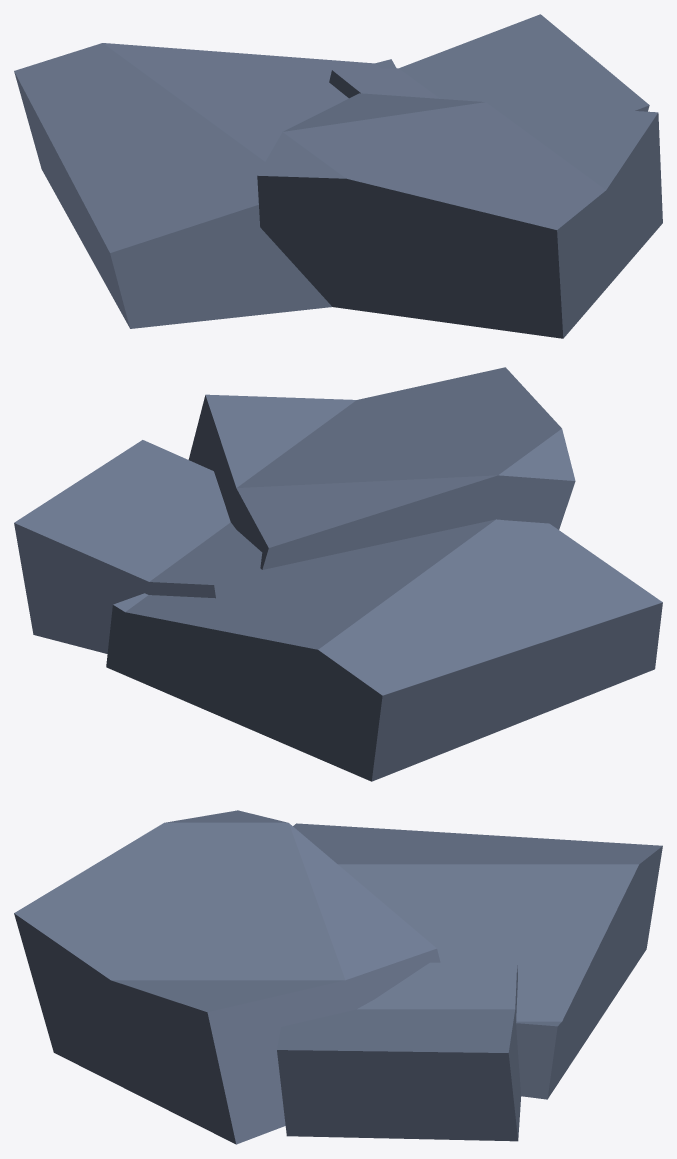
Rendered from resource_stone1_empty.fbx.
3 views of the same model, one above another, from view 1: azimuth 30°, elevation 25°; view 2: azimuth 150°, elevation 25°; view 3: azimuth 270°, elevation 25° (orthographic). The views are drawn at different scales.
Parts seen in each view (by area): view 1: resource_stone1_empty; view 2: resource_stone1_empty; view 3: resource_stone1_empty.
Boxes of the visible parts, box(x1,y1,x2,y2) form: resource_stone1_empty: box(14, 14, 662, 338); resource_stone1_empty: box(14, 367, 662, 781); resource_stone1_empty: box(14, 810, 662, 1144).
Bounding box in the file's own units: 75.15 × 21 × 80.33.
